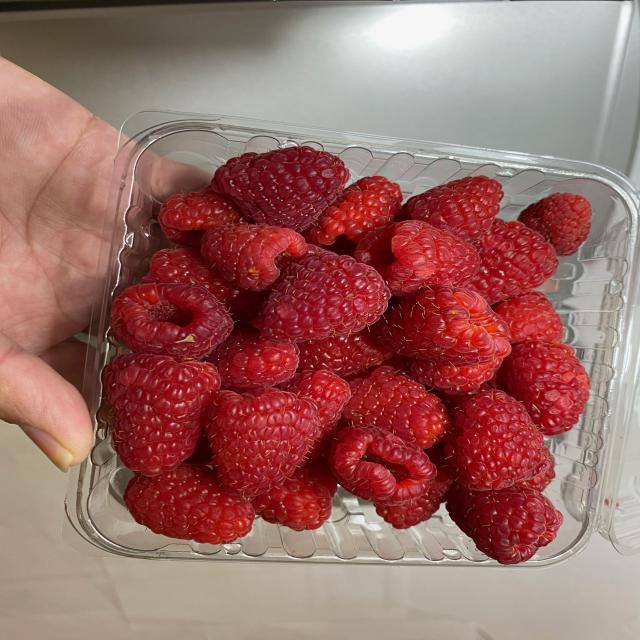raspberries: (116, 143, 592, 554)
